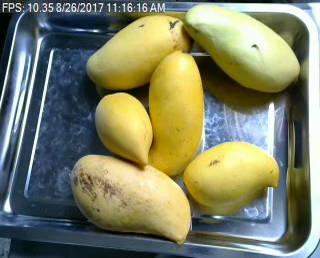Mango: (71, 155, 190, 244), (184, 5, 300, 92), (86, 15, 190, 89), (147, 50, 204, 174), (184, 140, 279, 205), (94, 92, 153, 166)
